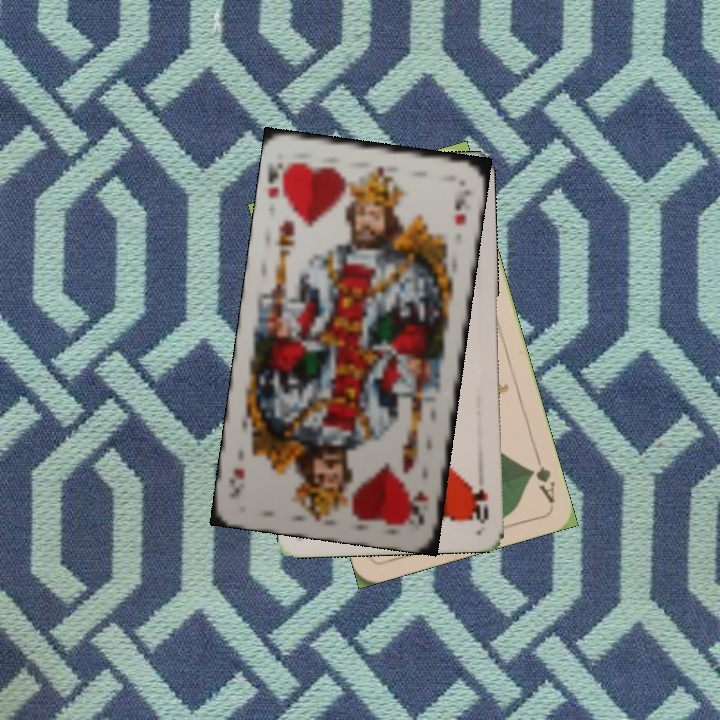GA: (525, 448, 558, 506)
HK: (263, 158, 294, 208), (406, 486, 431, 527)
HO: (469, 481, 492, 525)
